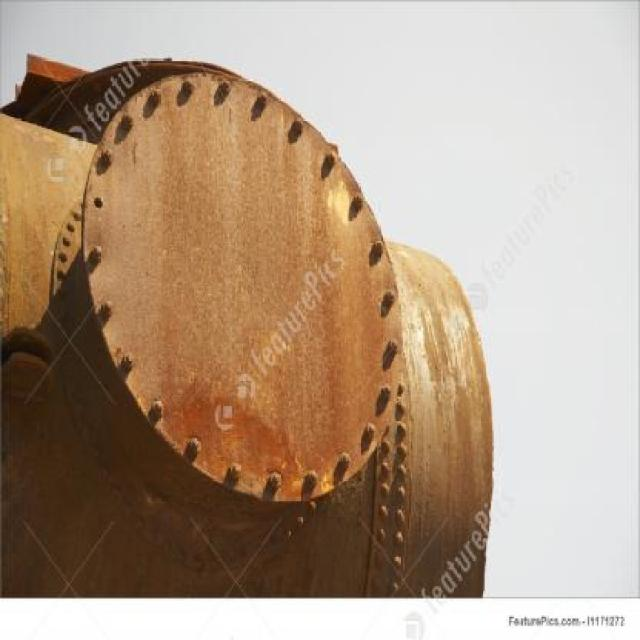corrosion: (1, 52, 497, 600)
